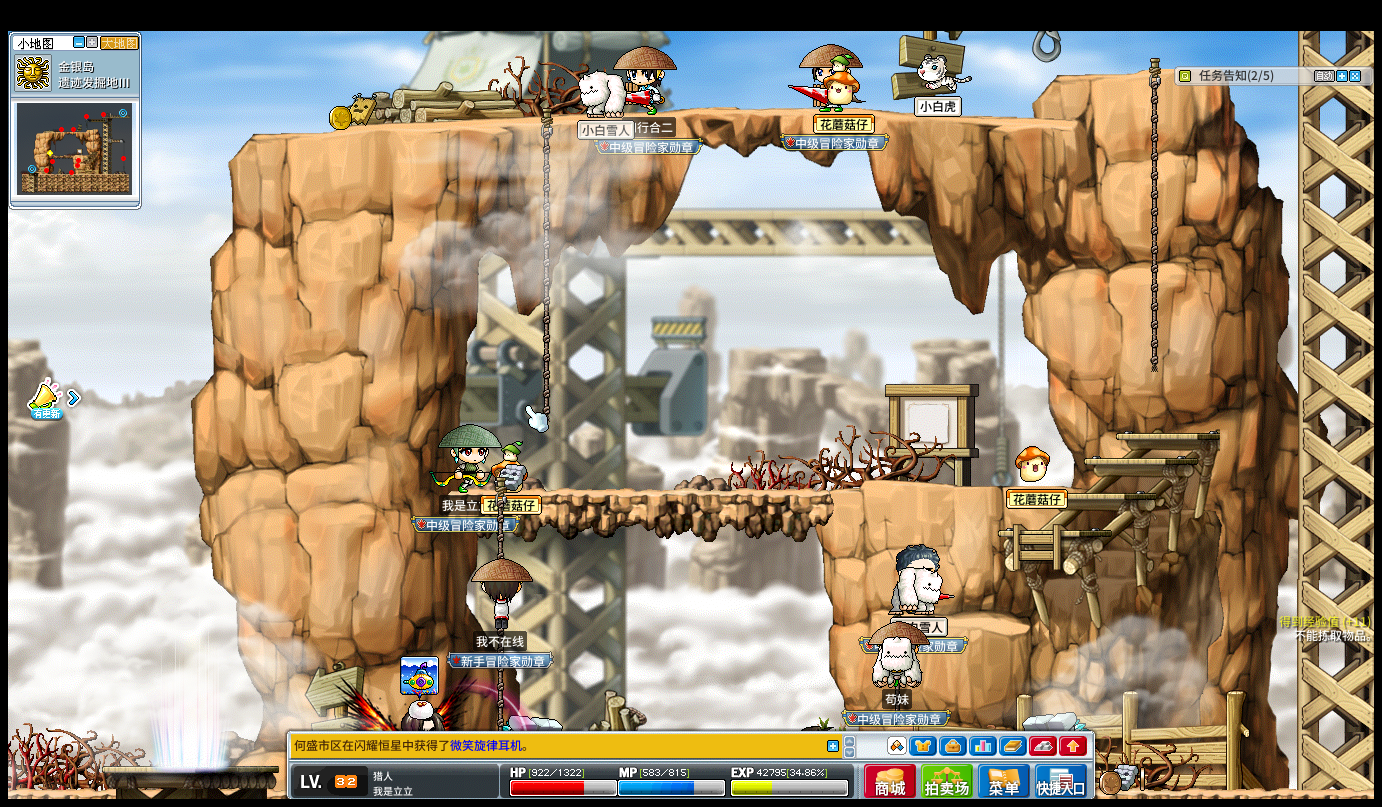floor: (221, 105, 1075, 141), (452, 488, 826, 499), (880, 482, 1085, 492), (948, 612, 1029, 634), (932, 481, 1082, 492), (1058, 66, 1166, 79), (1053, 69, 1169, 81), (1115, 429, 1221, 441), (996, 528, 1110, 537), (1078, 456, 1193, 464), (1056, 492, 1157, 500)
rope: (1147, 55, 1161, 375), (538, 108, 550, 425), (493, 496, 505, 560)
